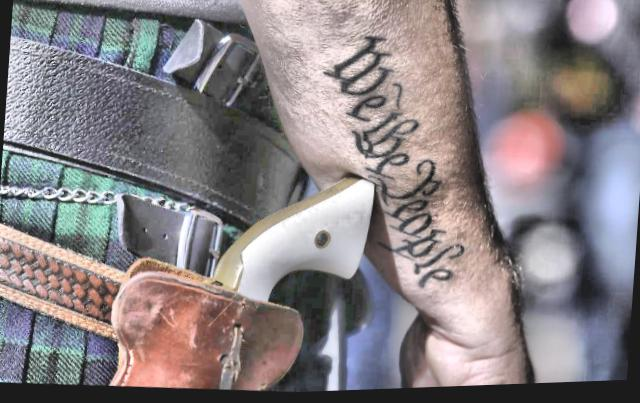pistol: (93, 164, 382, 400)
